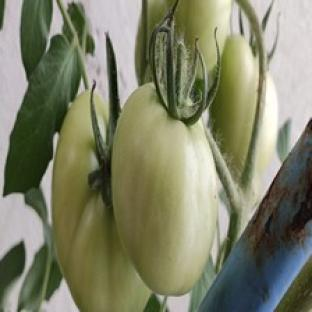Tomato: (112, 84, 217, 295), (52, 91, 150, 311), (211, 35, 259, 176)
